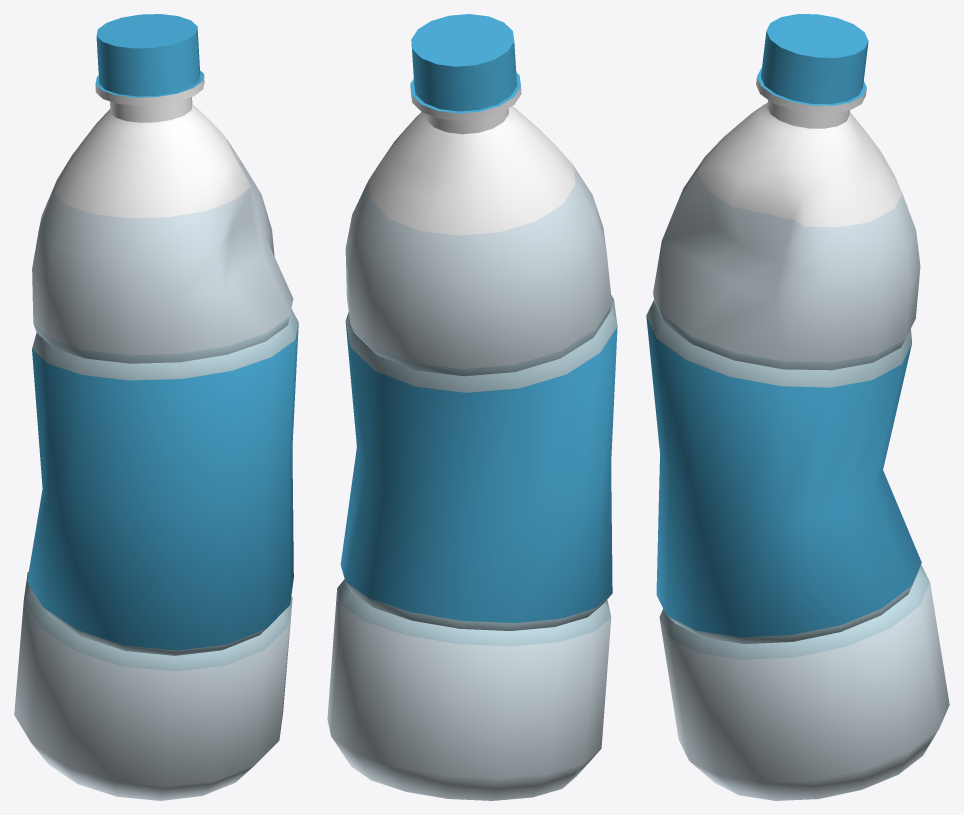
Rendered from plastic_bottle1.fbx.
3 renders of one model, left to right at view 1: azimuth 30°, elevation 25°; view 2: azimuth 150°, elevation 25°; view 3: azimuth 270°, elevation 25°, orthographic.
Visible parts, largest first — view 1: Cylinder; view 2: Cylinder; view 3: Cylinder.
Boxes of the visible parts, bbox=[...] form: Cylinder: bbox=[14, 14, 298, 800]; Cylinder: bbox=[327, 14, 617, 800]; Cylinder: bbox=[646, 14, 949, 800].
Bounding box in the file's own units: 1.47 × 1.63 × 4.36.
